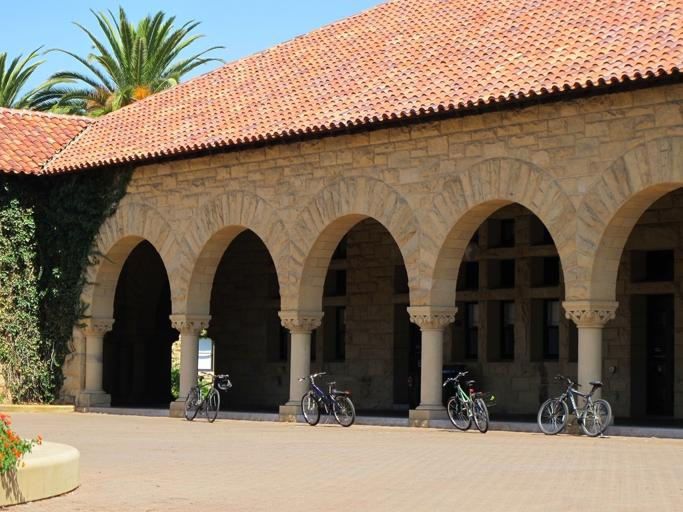non-vehicle: (537, 374, 611, 437), (298, 371, 355, 427), (442, 371, 489, 432), (183, 371, 228, 422)
